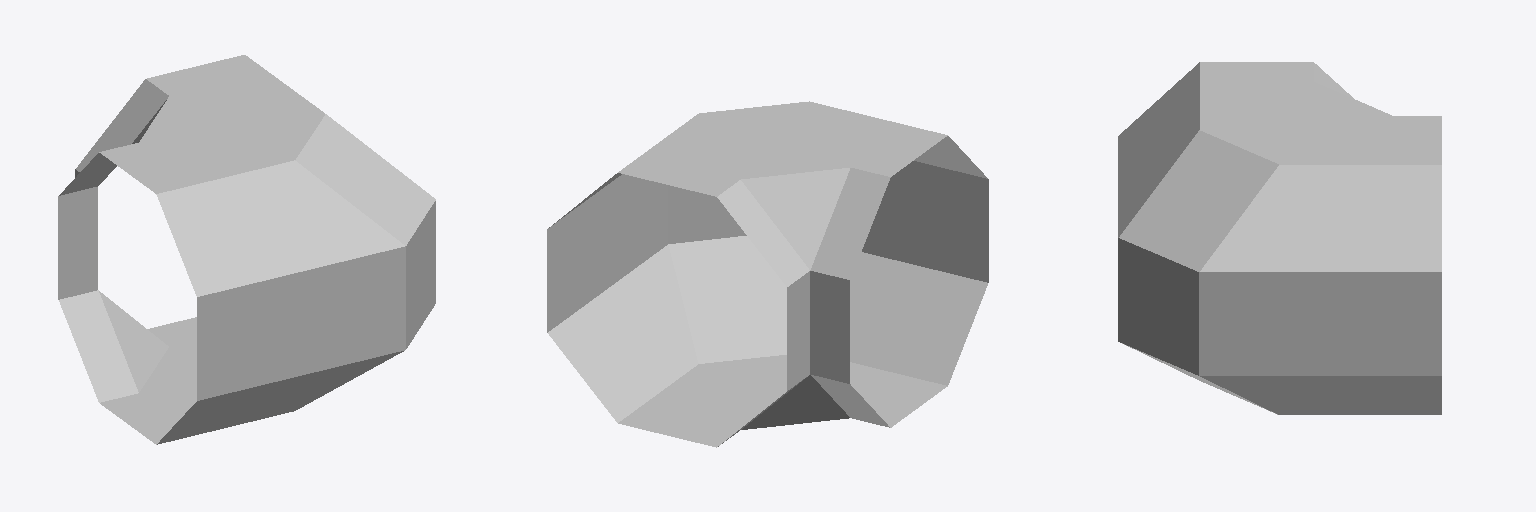
Rendered from ss_pipe_elbow_side.obj.
The picture shows the model from 3 angles: view 1: azimuth 30°, elevation 25°; view 2: azimuth 150°, elevation 25°; view 3: azimuth 270°, elevation 25°; orthographic projection.
Visible parts, largest first — view 1: ss_pipe_elbow_SSPipes.006; view 2: ss_pipe_elbow_SSPipes.006; view 3: ss_pipe_elbow_SSPipes.006.
Boxes of the visible parts, box(x1,y1,x2,y2) form: ss_pipe_elbow_SSPipes.006: box(58, 55, 435, 444); ss_pipe_elbow_SSPipes.006: box(547, 101, 988, 447); ss_pipe_elbow_SSPipes.006: box(1118, 62, 1441, 414).
Bounding box in the file's own units: 0.8749 × 0.7492 × 0.8746.